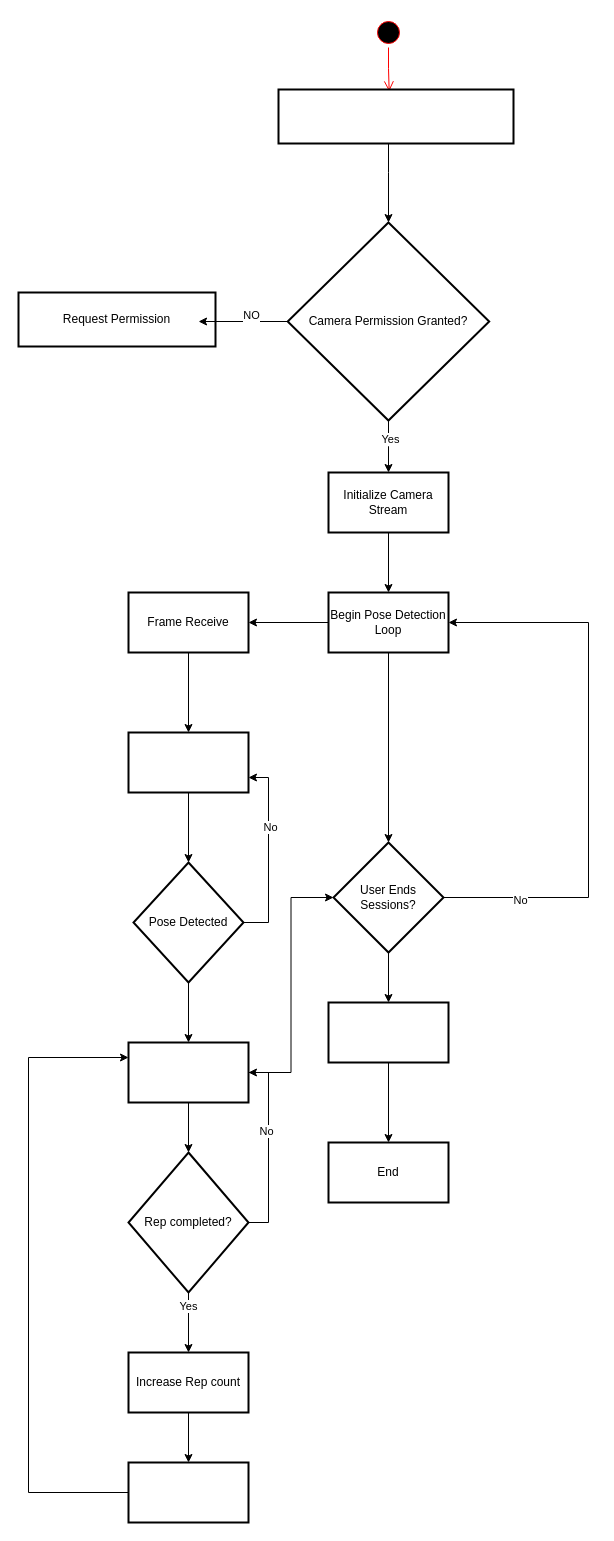
This 614x1541 diagram has some shape labels left out. The shapes that lost their labels are listed below. From the top down, each one's centre as x and y in pixels, then its label:
the point at 395,116: Open Rep Count Feature
the point at 188,762: Detect Keypoints
the point at 388,1032: Save Session Data in Database
the point at 188,1072: Track body moment
the point at 188,1492: Update rep count on screen
